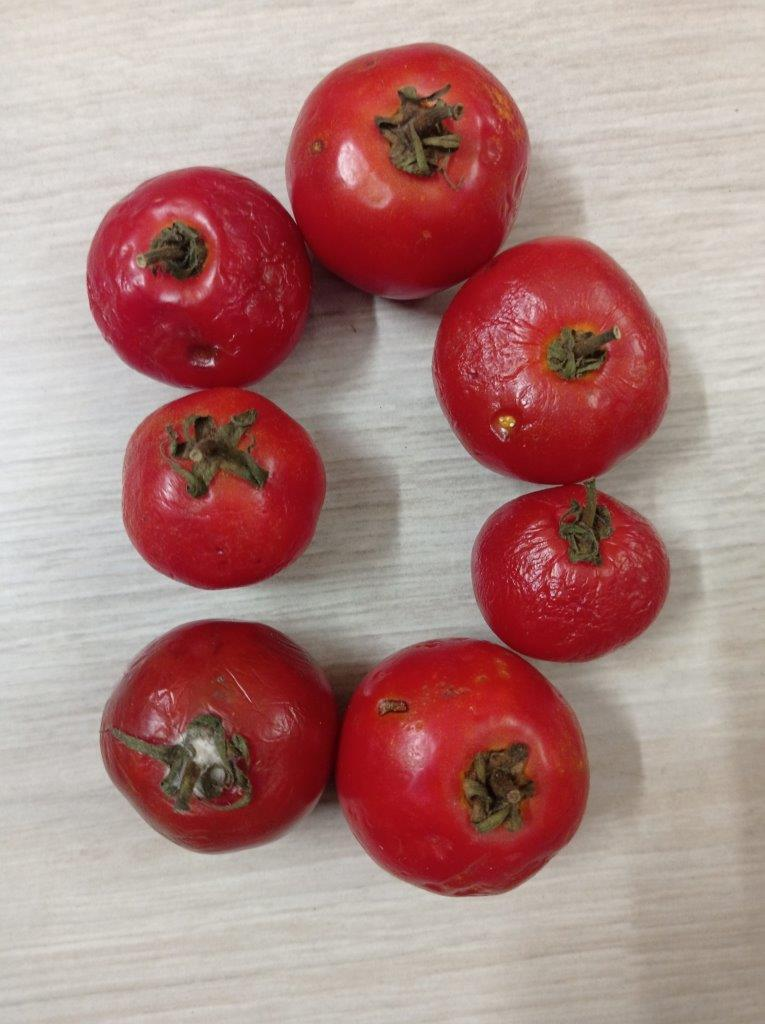surface_damage: (491, 414, 516, 440), (189, 346, 217, 365), (378, 698, 408, 715), (311, 139, 324, 153)
tomato: (336, 639, 588, 895), (287, 43, 528, 299), (433, 238, 667, 482), (101, 620, 336, 851), (88, 167, 310, 388), (123, 388, 324, 588), (473, 480, 668, 660)
